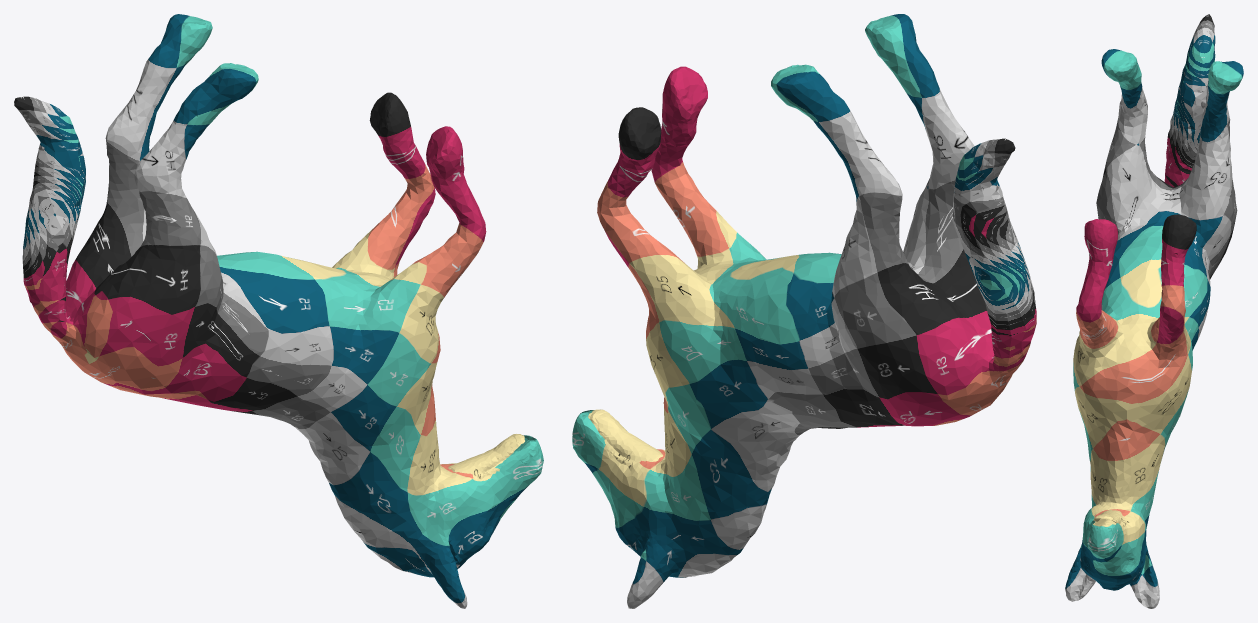
Rendered from hippo_05-horse_08.obj.
3 views of the same model, side by side, from view 1: azimuth 30°, elevation 25°; view 2: azimuth 150°, elevation 25°; view 3: azimuth 270°, elevation 25° (orthographic). The views are drawn at different scales.
Visible parts, largest first — view 1: hippo_05-horse_08_export; view 2: hippo_05-horse_08_export; view 3: hippo_05-horse_08_export.
Boxes of the visible parts, x1=… form: hippo_05-horse_08_export: x1=14, y1=14, x2=543, y2=608; hippo_05-horse_08_export: x1=572, y1=14, x2=1036, y2=608; hippo_05-horse_08_export: x1=1065, y1=14, x2=1243, y2=608.
Bounding box in the file's own units: 0.8288 × 0.9724 × 0.3354.
